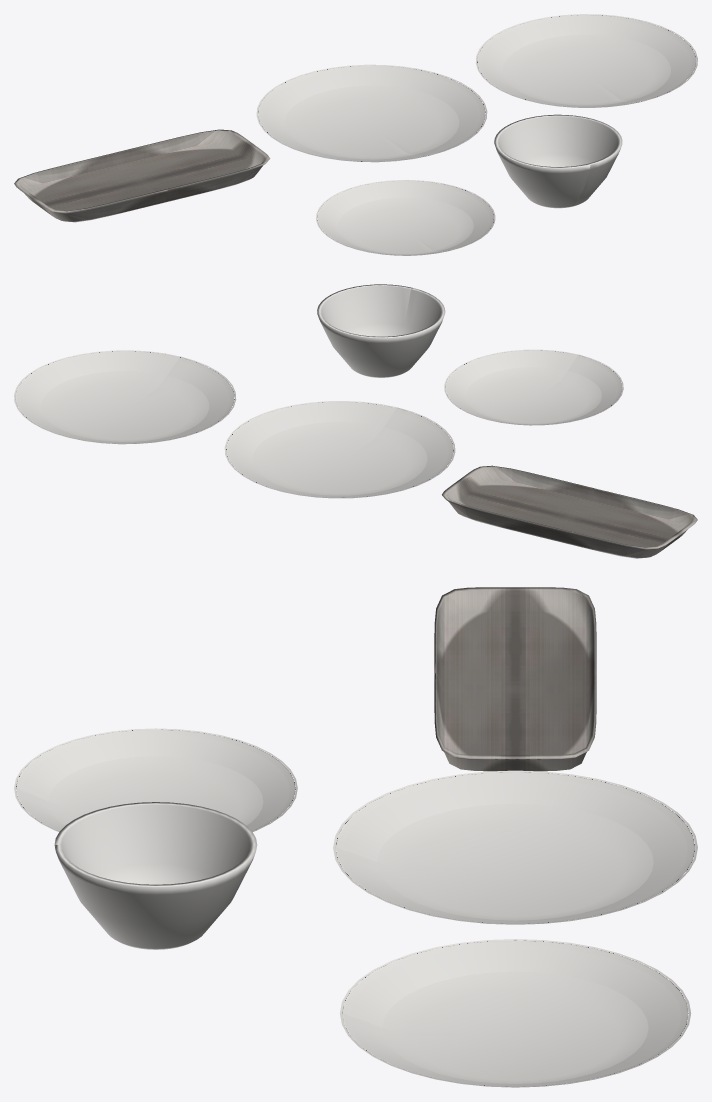
File: FLO-03.glb
The picture shows the model from 3 angles, top to bottom: view 1: azimuth 30°, elevation 25°; view 2: azimuth 150°, elevation 25°; view 3: azimuth 270°, elevation 25°; orthographic projection. The views are drawn at different scales.
Size of the model in its own units: 0.88 by 0.07 by 0.506.
5 materials, 1 textured.
